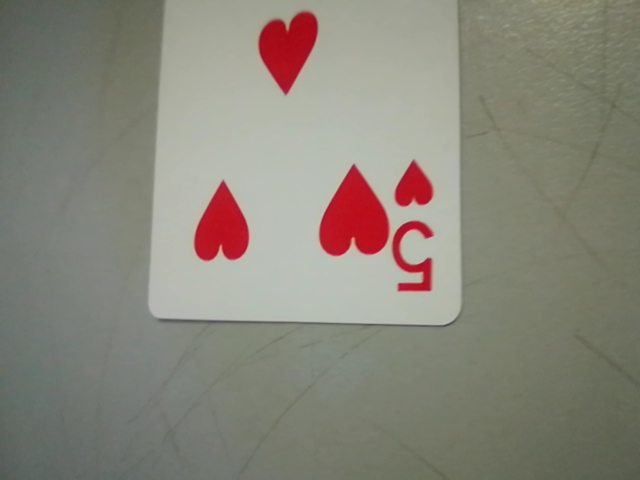hx 5: (384, 154, 452, 305)
